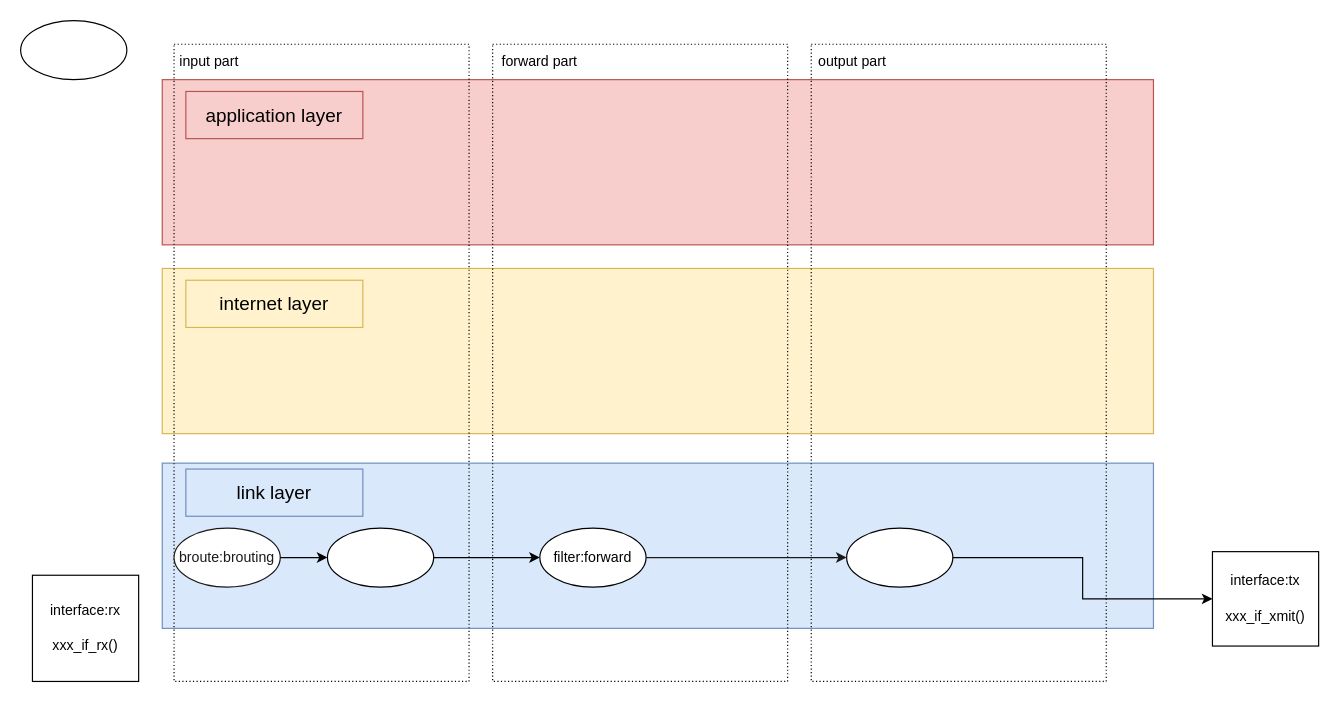
Some shapes in this 1339 by 702 pixel diagram are drawn without their labels. Each missing label, with the centre of its shape:
"nat:postrouting" belongs at point 899,557.
"nat:prerouting" belongs at point 380,557.
"table:hook" belongs at point 73,49.
